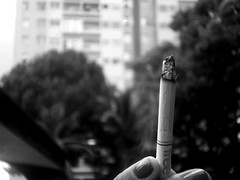cigarette: (154, 53, 180, 178)
